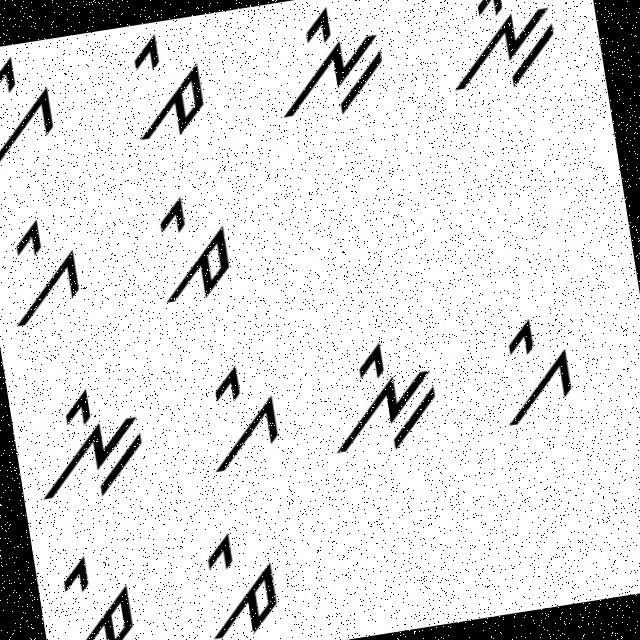gi: (180, 355, 293, 487), (480, 307, 584, 438), (0, 208, 98, 341), (0, 49, 69, 174)
ngi: (309, 326, 450, 466), (21, 377, 158, 513), (260, 0, 394, 132), (427, 0, 570, 97)
ti: (138, 185, 252, 315), (189, 518, 294, 639), (115, 29, 214, 150), (46, 541, 147, 639)
